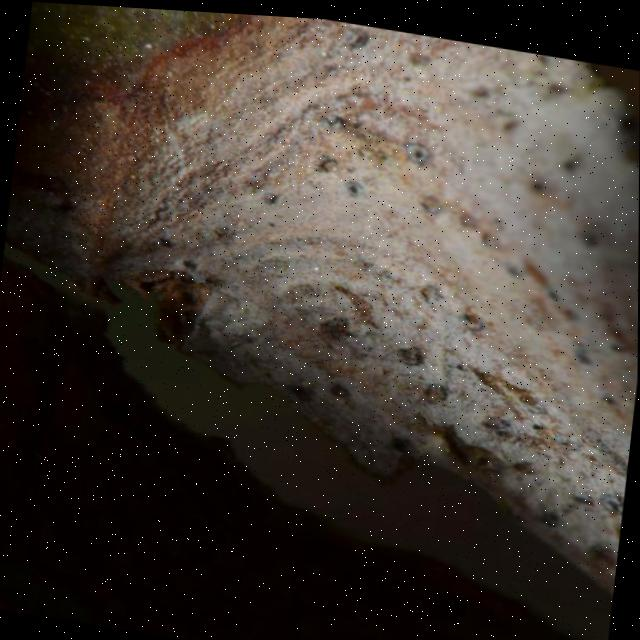Tea cloud leaf blight: (74, 9, 633, 504)
